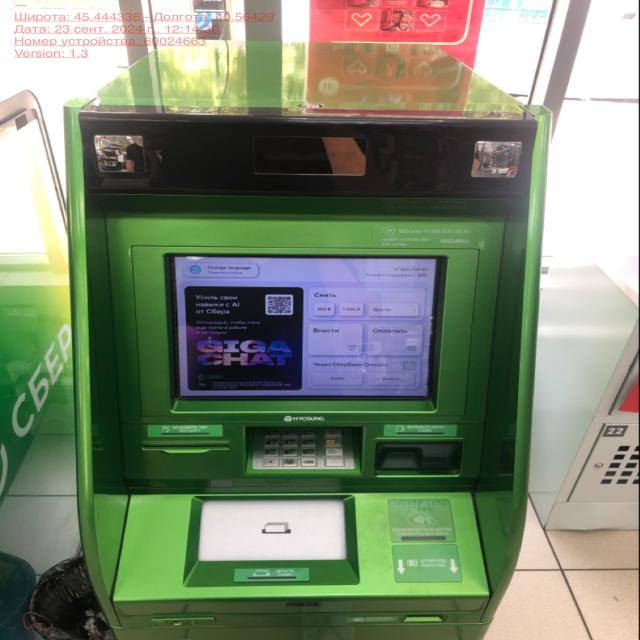bank: (65, 41, 555, 640), (0, 89, 95, 640)
